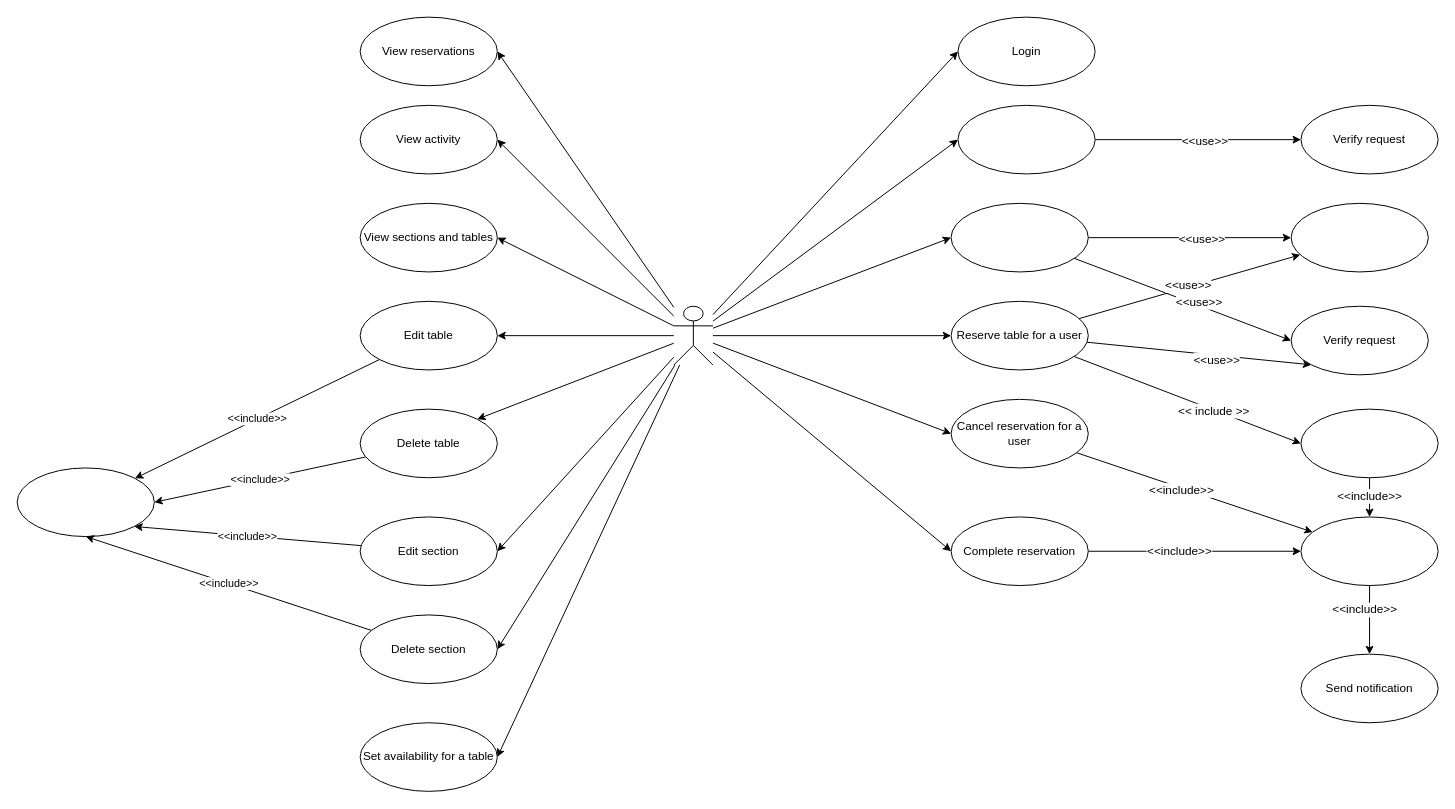
Image size: 1455x809. Some labels were removed from this diagram. Here are the shapes that lost their labels. From the top down, the box of each, then its label:
(957, 104, 1095, 174): Register
(950, 202, 1088, 272): Edit reservation for a user
(1290, 202, 1428, 272): Check availability
(673, 305, 713, 365): Waiter
(1300, 408, 1438, 478): Make reservation
(16, 467, 154, 537): Check availability (no reservation)
(1300, 516, 1438, 586): Notify user
